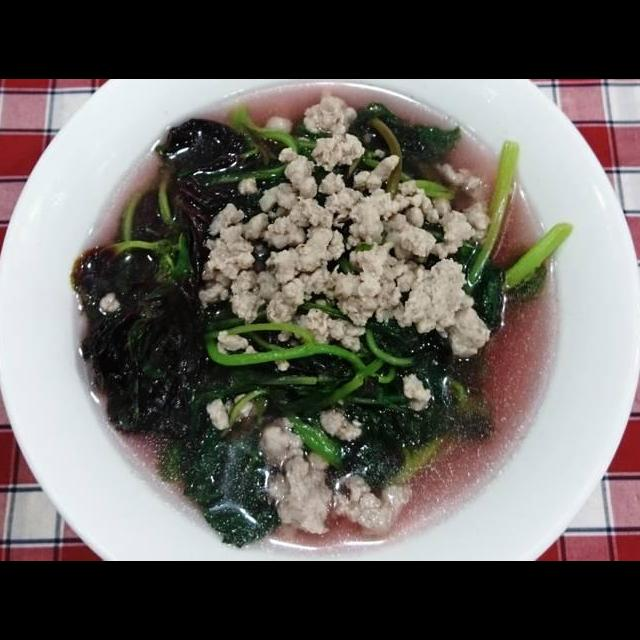thit bam: (197, 87, 496, 362), (201, 384, 418, 539)
